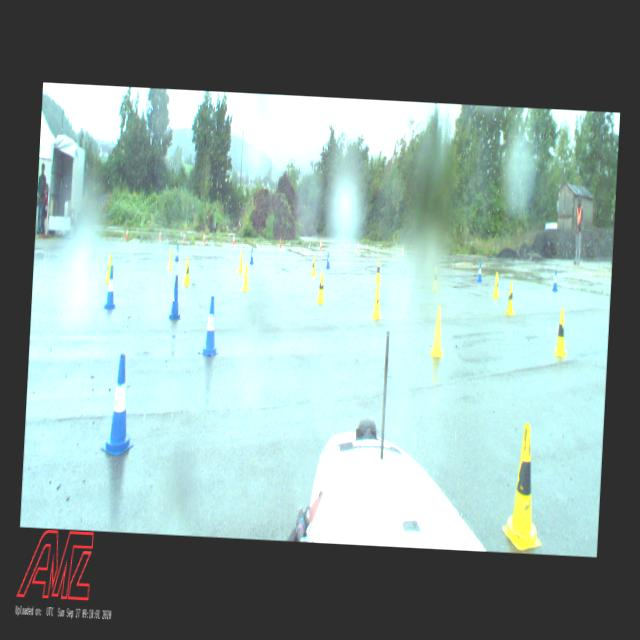blue_cone: (102, 352, 138, 456), (200, 296, 222, 356), (168, 274, 184, 320), (104, 264, 118, 310), (552, 270, 559, 292), (477, 262, 482, 282), (175, 244, 180, 262), (250, 247, 255, 265), (403, 258, 408, 274), (326, 252, 330, 268)
orange_cone: (158, 230, 162, 240), (183, 230, 186, 242), (357, 241, 360, 252), (126, 228, 129, 239), (232, 234, 235, 245), (202, 232, 205, 243), (279, 238, 282, 248), (402, 243, 404, 254), (320, 240, 322, 250)
yellow_cone: (501, 424, 547, 550), (430, 305, 446, 357), (554, 308, 568, 357), (371, 279, 384, 319), (504, 282, 516, 315), (316, 270, 326, 302), (182, 258, 192, 286), (241, 262, 250, 291), (492, 272, 500, 298), (105, 254, 112, 282), (432, 267, 439, 290), (310, 256, 318, 276), (167, 248, 174, 269), (375, 260, 381, 282), (238, 252, 244, 274)
